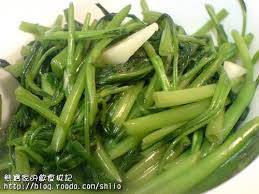water_spinach: (39, 27, 240, 169)
